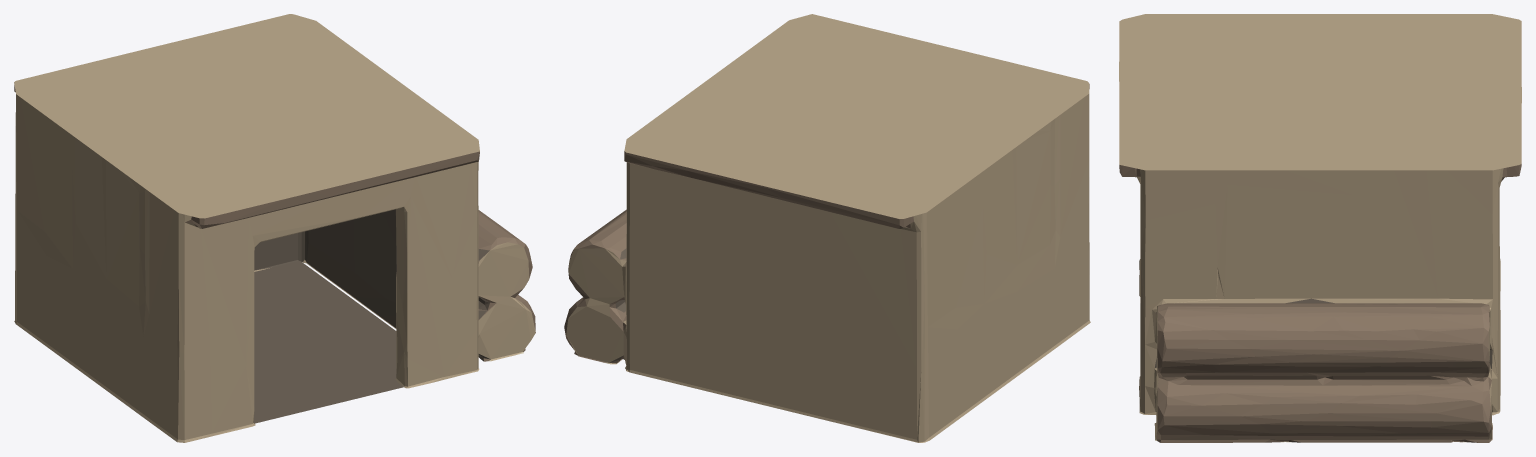
The model's file is etape-1.glb.
The picture shows the model from 3 angles, left to right: view 1: azimuth 30°, elevation 25°; view 2: azimuth 150°, elevation 25°; view 3: azimuth 270°, elevation 25°; orthographic projection. The views are drawn at different scales.
Parts seen in each view (by area): view 1: geometry_0; view 2: geometry_0; view 3: geometry_0.
Boxes of the visible parts, x1,y1,x2,y2 form: geometry_0: [14, 14, 535, 442]; geometry_0: [564, 14, 1090, 442]; geometry_0: [1119, 14, 1521, 442].
Size of the model in its own units: 0.8413 by 0.5008 by 0.748.
